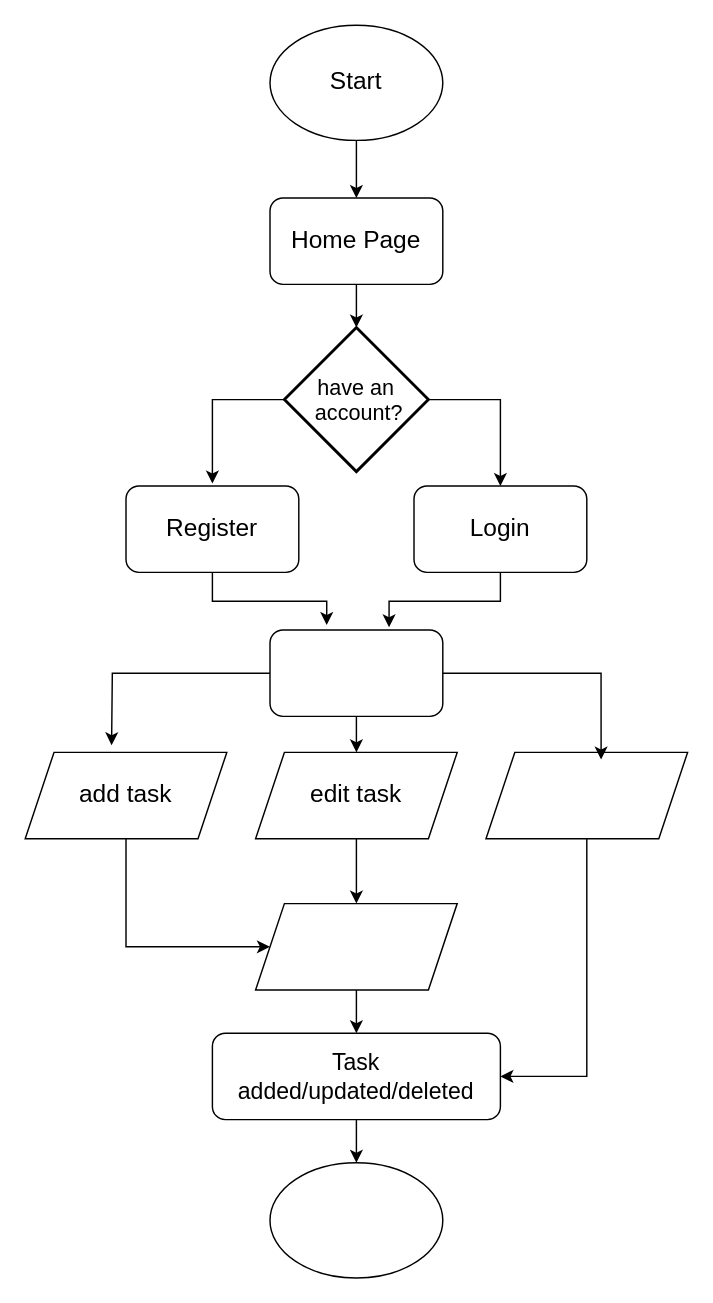
Image size: 713x1303. Some labels were removed from this diagram. Here are the shapes that lost their labels. From the top down, the centre of each, then its label:
the point at 356,672: Dashboard
the point at 586,795: delete task
the point at 355,946: insert task info
the point at 356,1219: End
